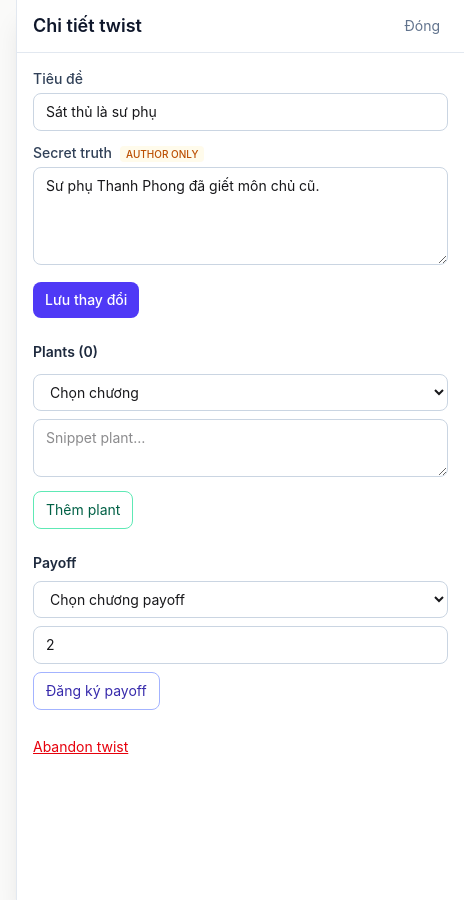
Test: TwistBoardPage › drawer registers payoff for planted twist
Expected: the field showing "Sát thủ là sư phụ" is shown, [33,93,448,131]
Select "Ch.2 — Ch 2" in the dropdown named "Chọn chương" at (240, 392), box [33,374,448,411]
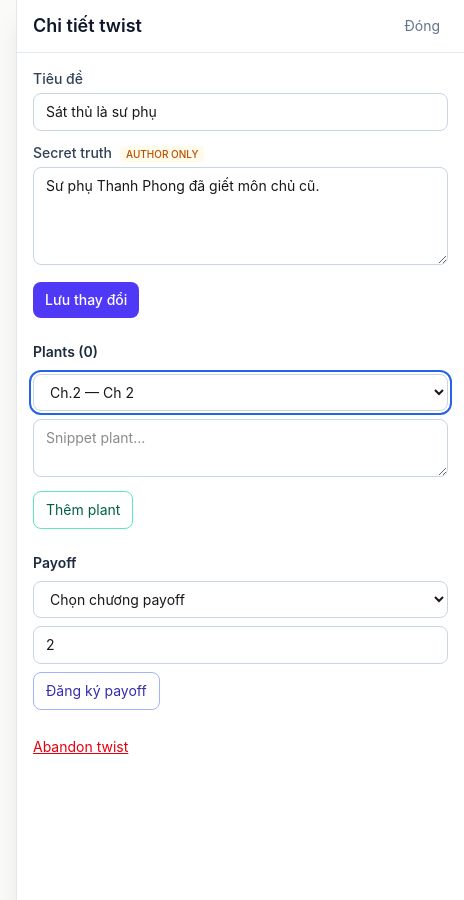
Type "Plant for payoff" into the text box with placeholder "Snippet plant…".
click(240, 448); type("Plant for payoff")  # box [33,419,448,477]
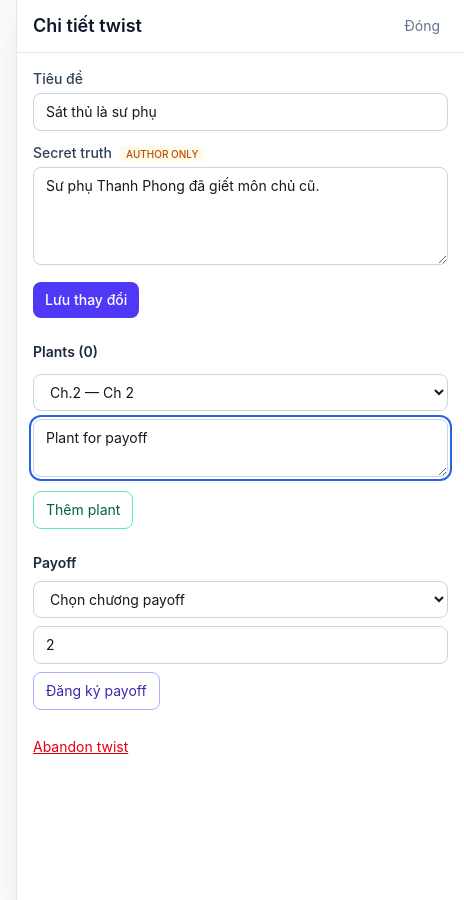
Click the button "Thêm plant".
click(83, 510)  # box [33,491,133,529]
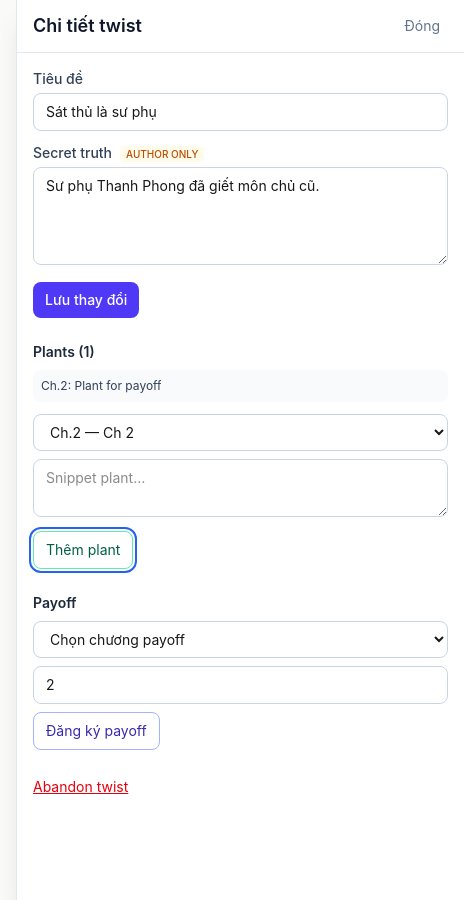
Expected: the list item "Ch.2: Plant for payoff" is shown, [33,370,448,402]
Select "Ch.2 — Ch 2" in the dropdown named "Chọn chương payoff" at (240, 640), box [33,621,448,658]
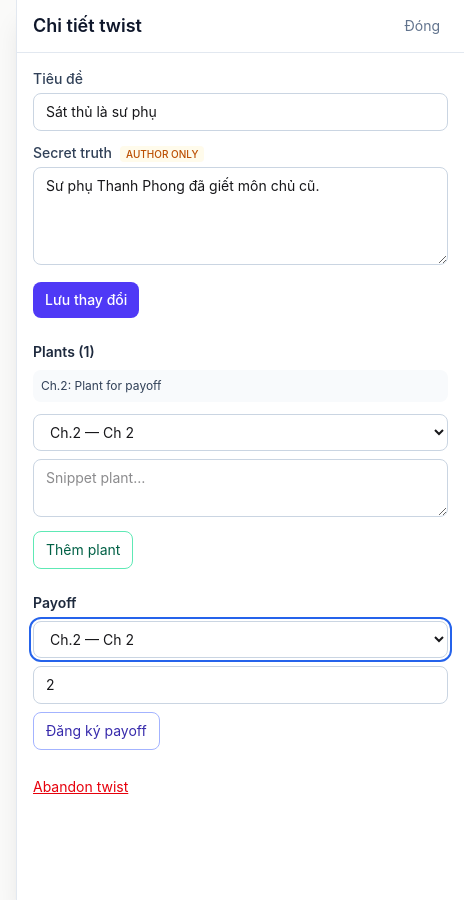
Click the button "Đăng ký payoff".
click(96, 731)  # box [33,712,160,750]
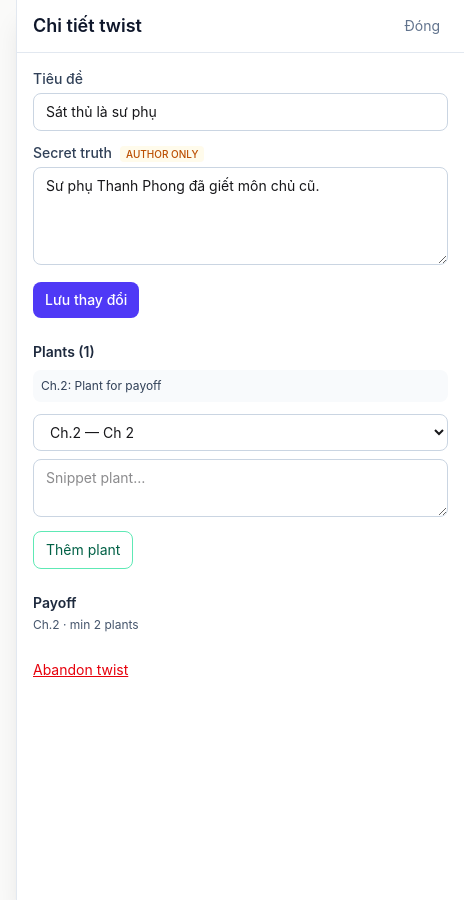
Expected: the text "Ch.2 · min 2 plants" is shown, [33,617,139,632]
